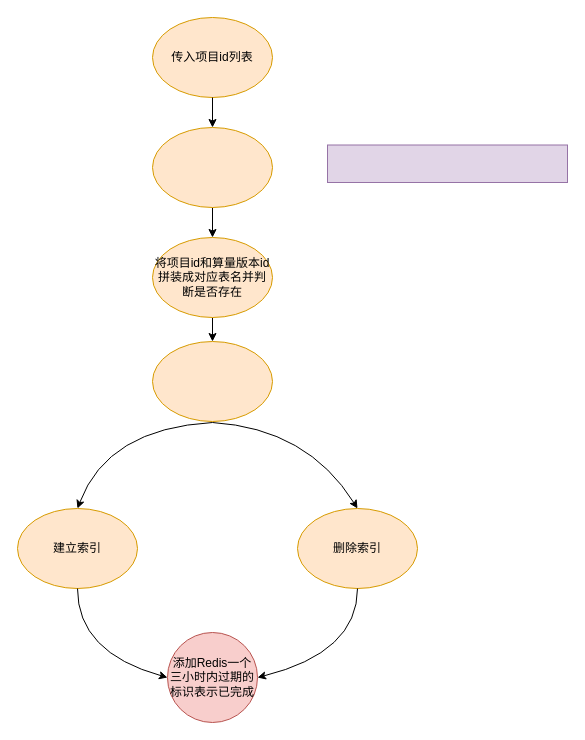
Image size: 585x740. Some labels were removed from this diagram. Here are the shapes that lost their labels. From the top down, the centre of each, then its label:
At [212,167]: "根据项目id查找status正常的算量版本数据".
At [447,163]: "status = 1 or status = 2 or status = 3".
At [212,381]: "根据对应的表名执行不同的索引建立操作".
